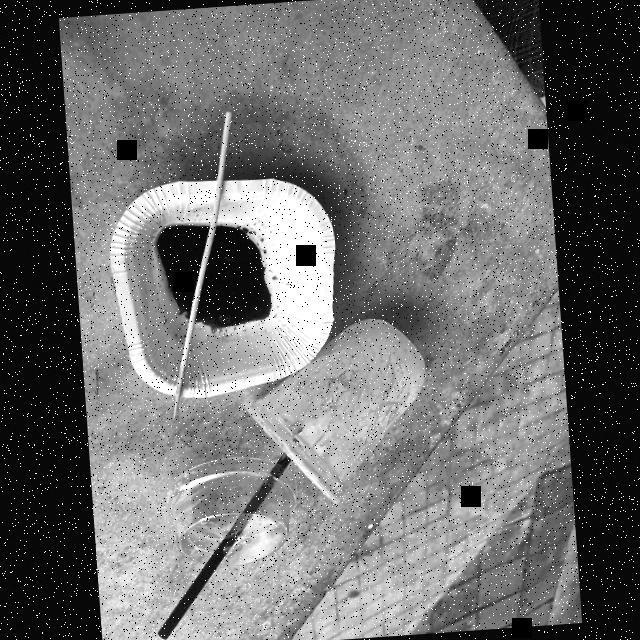cardboard_bowl: (108, 165, 354, 417)
plastic_cup: (256, 306, 442, 516)
plastic_cup_lid: (148, 453, 307, 575)
stick: (153, 102, 240, 435)
straw: (144, 441, 305, 640)
